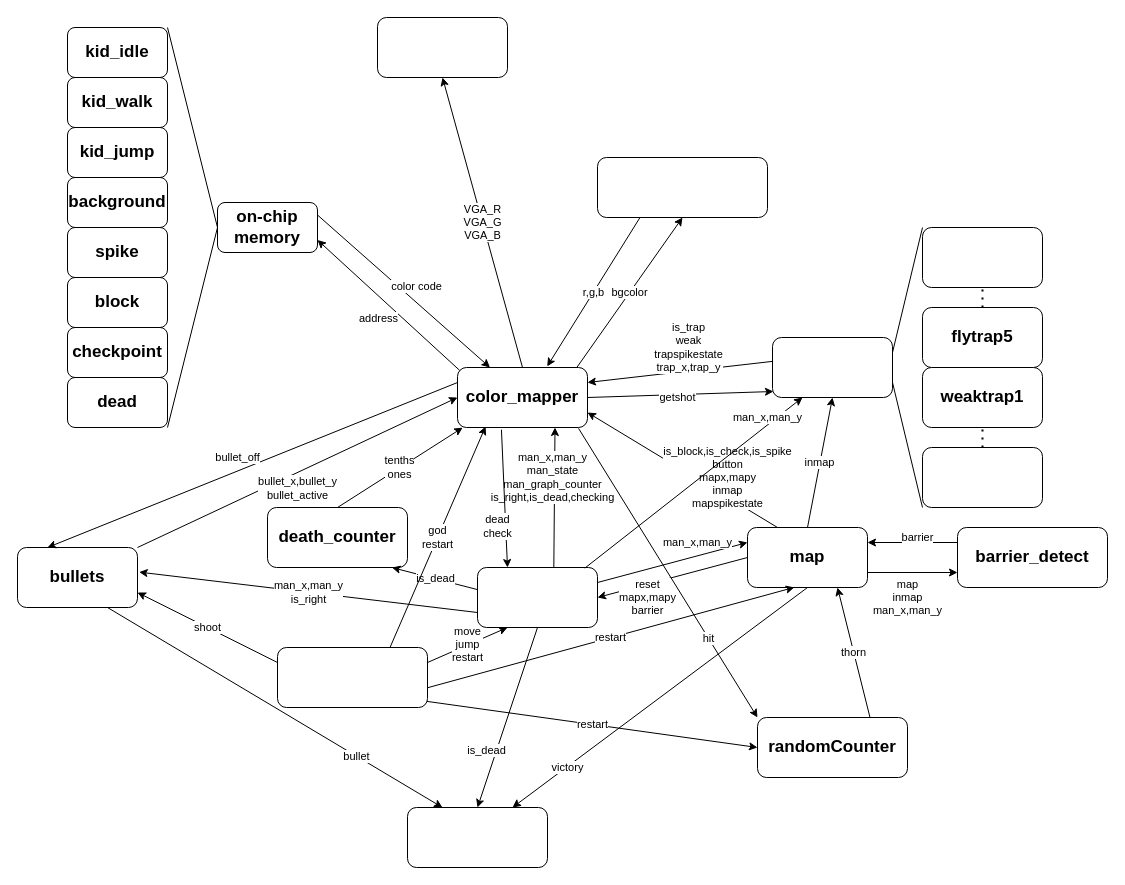
This 1125x885 diagram has some shape labels left out. Here are the shapes that lost their labels. From the top down, the box of each, then its label:
(376, 16, 508, 78): VGA
(596, 156, 768, 218): paint_background
(922, 226, 1042, 288): flytrap1
(772, 336, 892, 398): istrap
(922, 446, 1042, 508): weaktrap6
(476, 566, 598, 628): man
(276, 646, 428, 708): keycodeDecoder
(406, 806, 548, 868): sound_control
